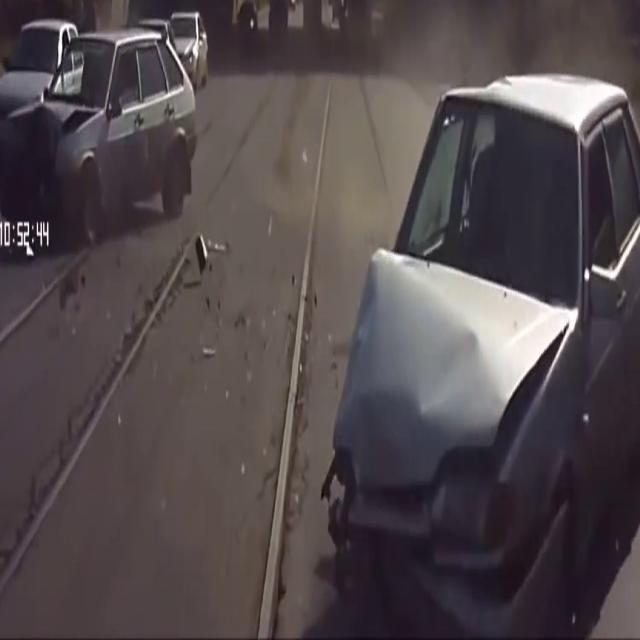accident: (316, 83, 626, 619), (19, 46, 213, 228)
